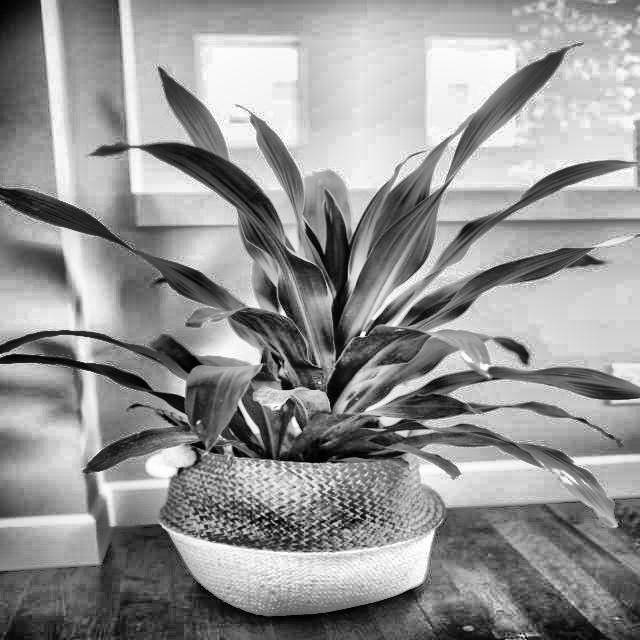plants: (27, 67, 597, 510), (429, 324, 506, 389), (255, 378, 334, 433), (141, 394, 202, 437)
